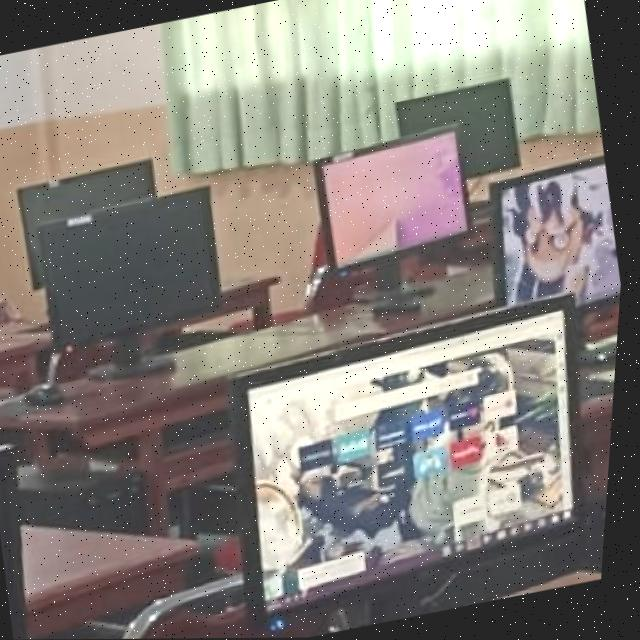offscreen: (46, 188, 224, 343), (22, 161, 155, 289), (399, 80, 522, 177)
onscreen: (242, 298, 580, 608), (326, 133, 470, 267), (495, 158, 625, 305)
